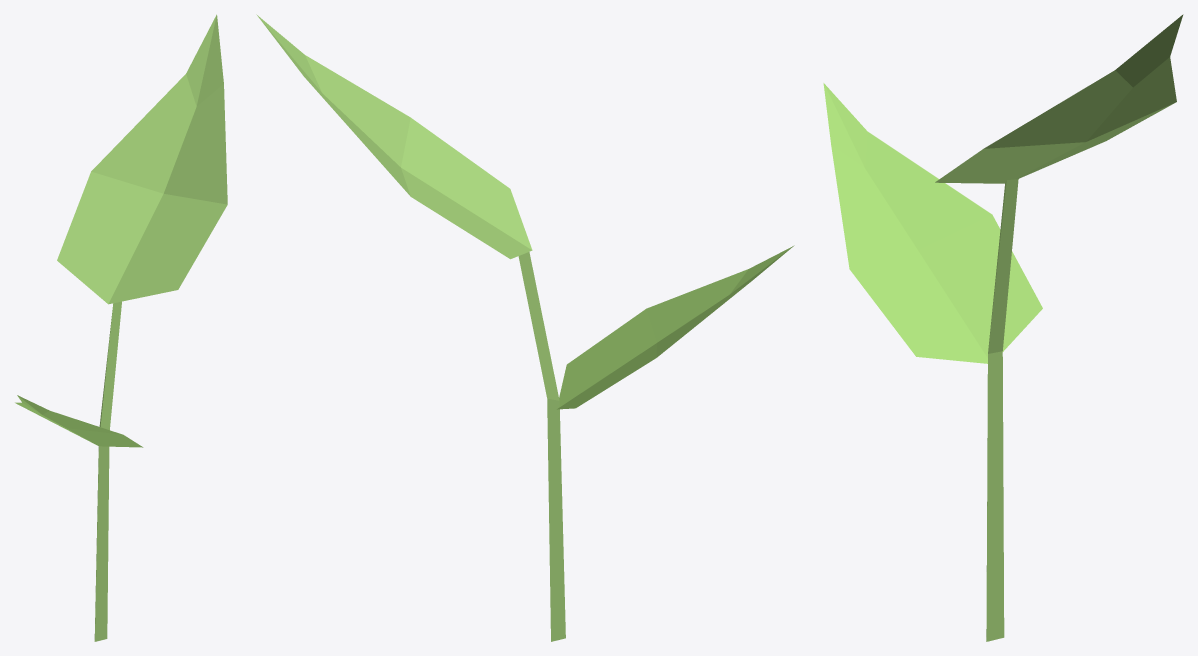
File: Plant_f_OneS_02.fbx
The picture shows the model from 3 angles, left to right: view 1: azimuth 30°, elevation 25°; view 2: azimuth 150°, elevation 25°; view 3: azimuth 270°, elevation 25°; orthographic projection. The views are drawn at different scales.
Parts seen in each view (by area): view 1: Plant_f_OneS_02; view 2: Plant_f_OneS_02; view 3: Plant_f_OneS_02.
Boxes of the visible parts, <box> form: Plant_f_OneS_02: <box>15,14,227,641</box>; Plant_f_OneS_02: <box>256,14,794,641</box>; Plant_f_OneS_02: <box>823,14,1183,641</box>.
Size of the model in its own units: 0.3162 by 0.4896 by 0.2125.
